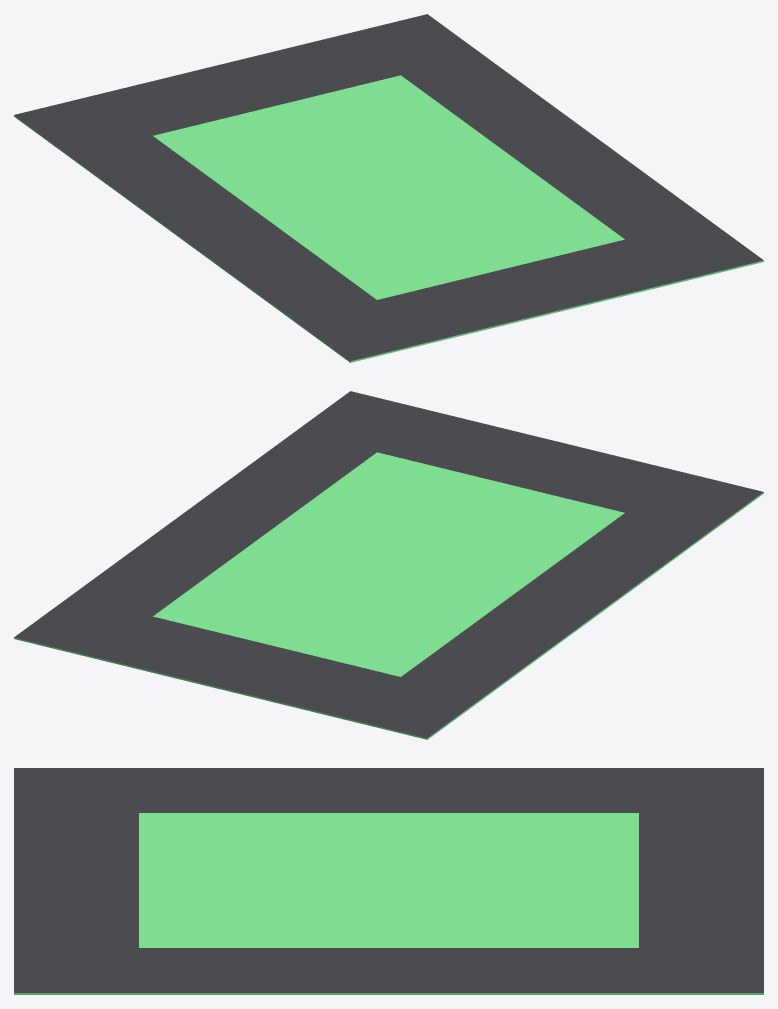
File: paper_flyer_single.fbx
3 renders of one model, top to bottom at view 1: azimuth 30°, elevation 25°; view 2: azimuth 150°, elevation 25°; view 3: azimuth 270°, elevation 25°, orthographic. The views are drawn at different scales.
Parts seen in each view (by area): view 1: paper_flyer_single; view 2: paper_flyer_single; view 3: paper_flyer_single.
Boxes of the visible parts, x1,y1,x2,y2 form: paper_flyer_single: (14, 14, 763, 362); paper_flyer_single: (14, 391, 763, 739); paper_flyer_single: (14, 768, 763, 994).
Size of the model in its own units: 0.105 by 0.0004 by 0.148.
